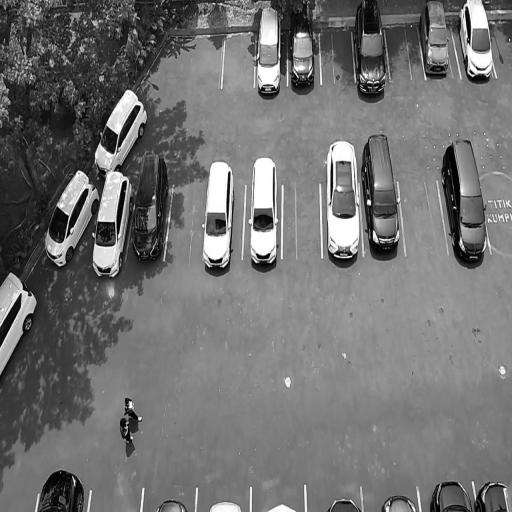Car: (434, 133, 493, 264), (38, 162, 104, 272), (87, 76, 152, 179), (359, 129, 403, 269), (84, 167, 137, 281), (322, 135, 362, 273), (0, 263, 40, 381), (201, 154, 236, 278), (131, 150, 169, 264), (246, 150, 280, 276), (352, 0, 389, 99), (452, 0, 497, 78), (254, 1, 286, 107), (286, 0, 317, 99), (30, 467, 83, 512), (428, 477, 473, 512), (474, 478, 509, 512), (380, 488, 420, 512), (326, 495, 361, 512), (156, 498, 186, 512), (209, 500, 243, 512)
Space Available: (399, 179, 449, 257), (165, 181, 207, 259), (283, 179, 323, 259), (385, 23, 425, 79), (220, 29, 256, 89), (482, 183, 512, 252), (320, 28, 355, 85), (487, 16, 512, 77), (88, 485, 142, 512)
